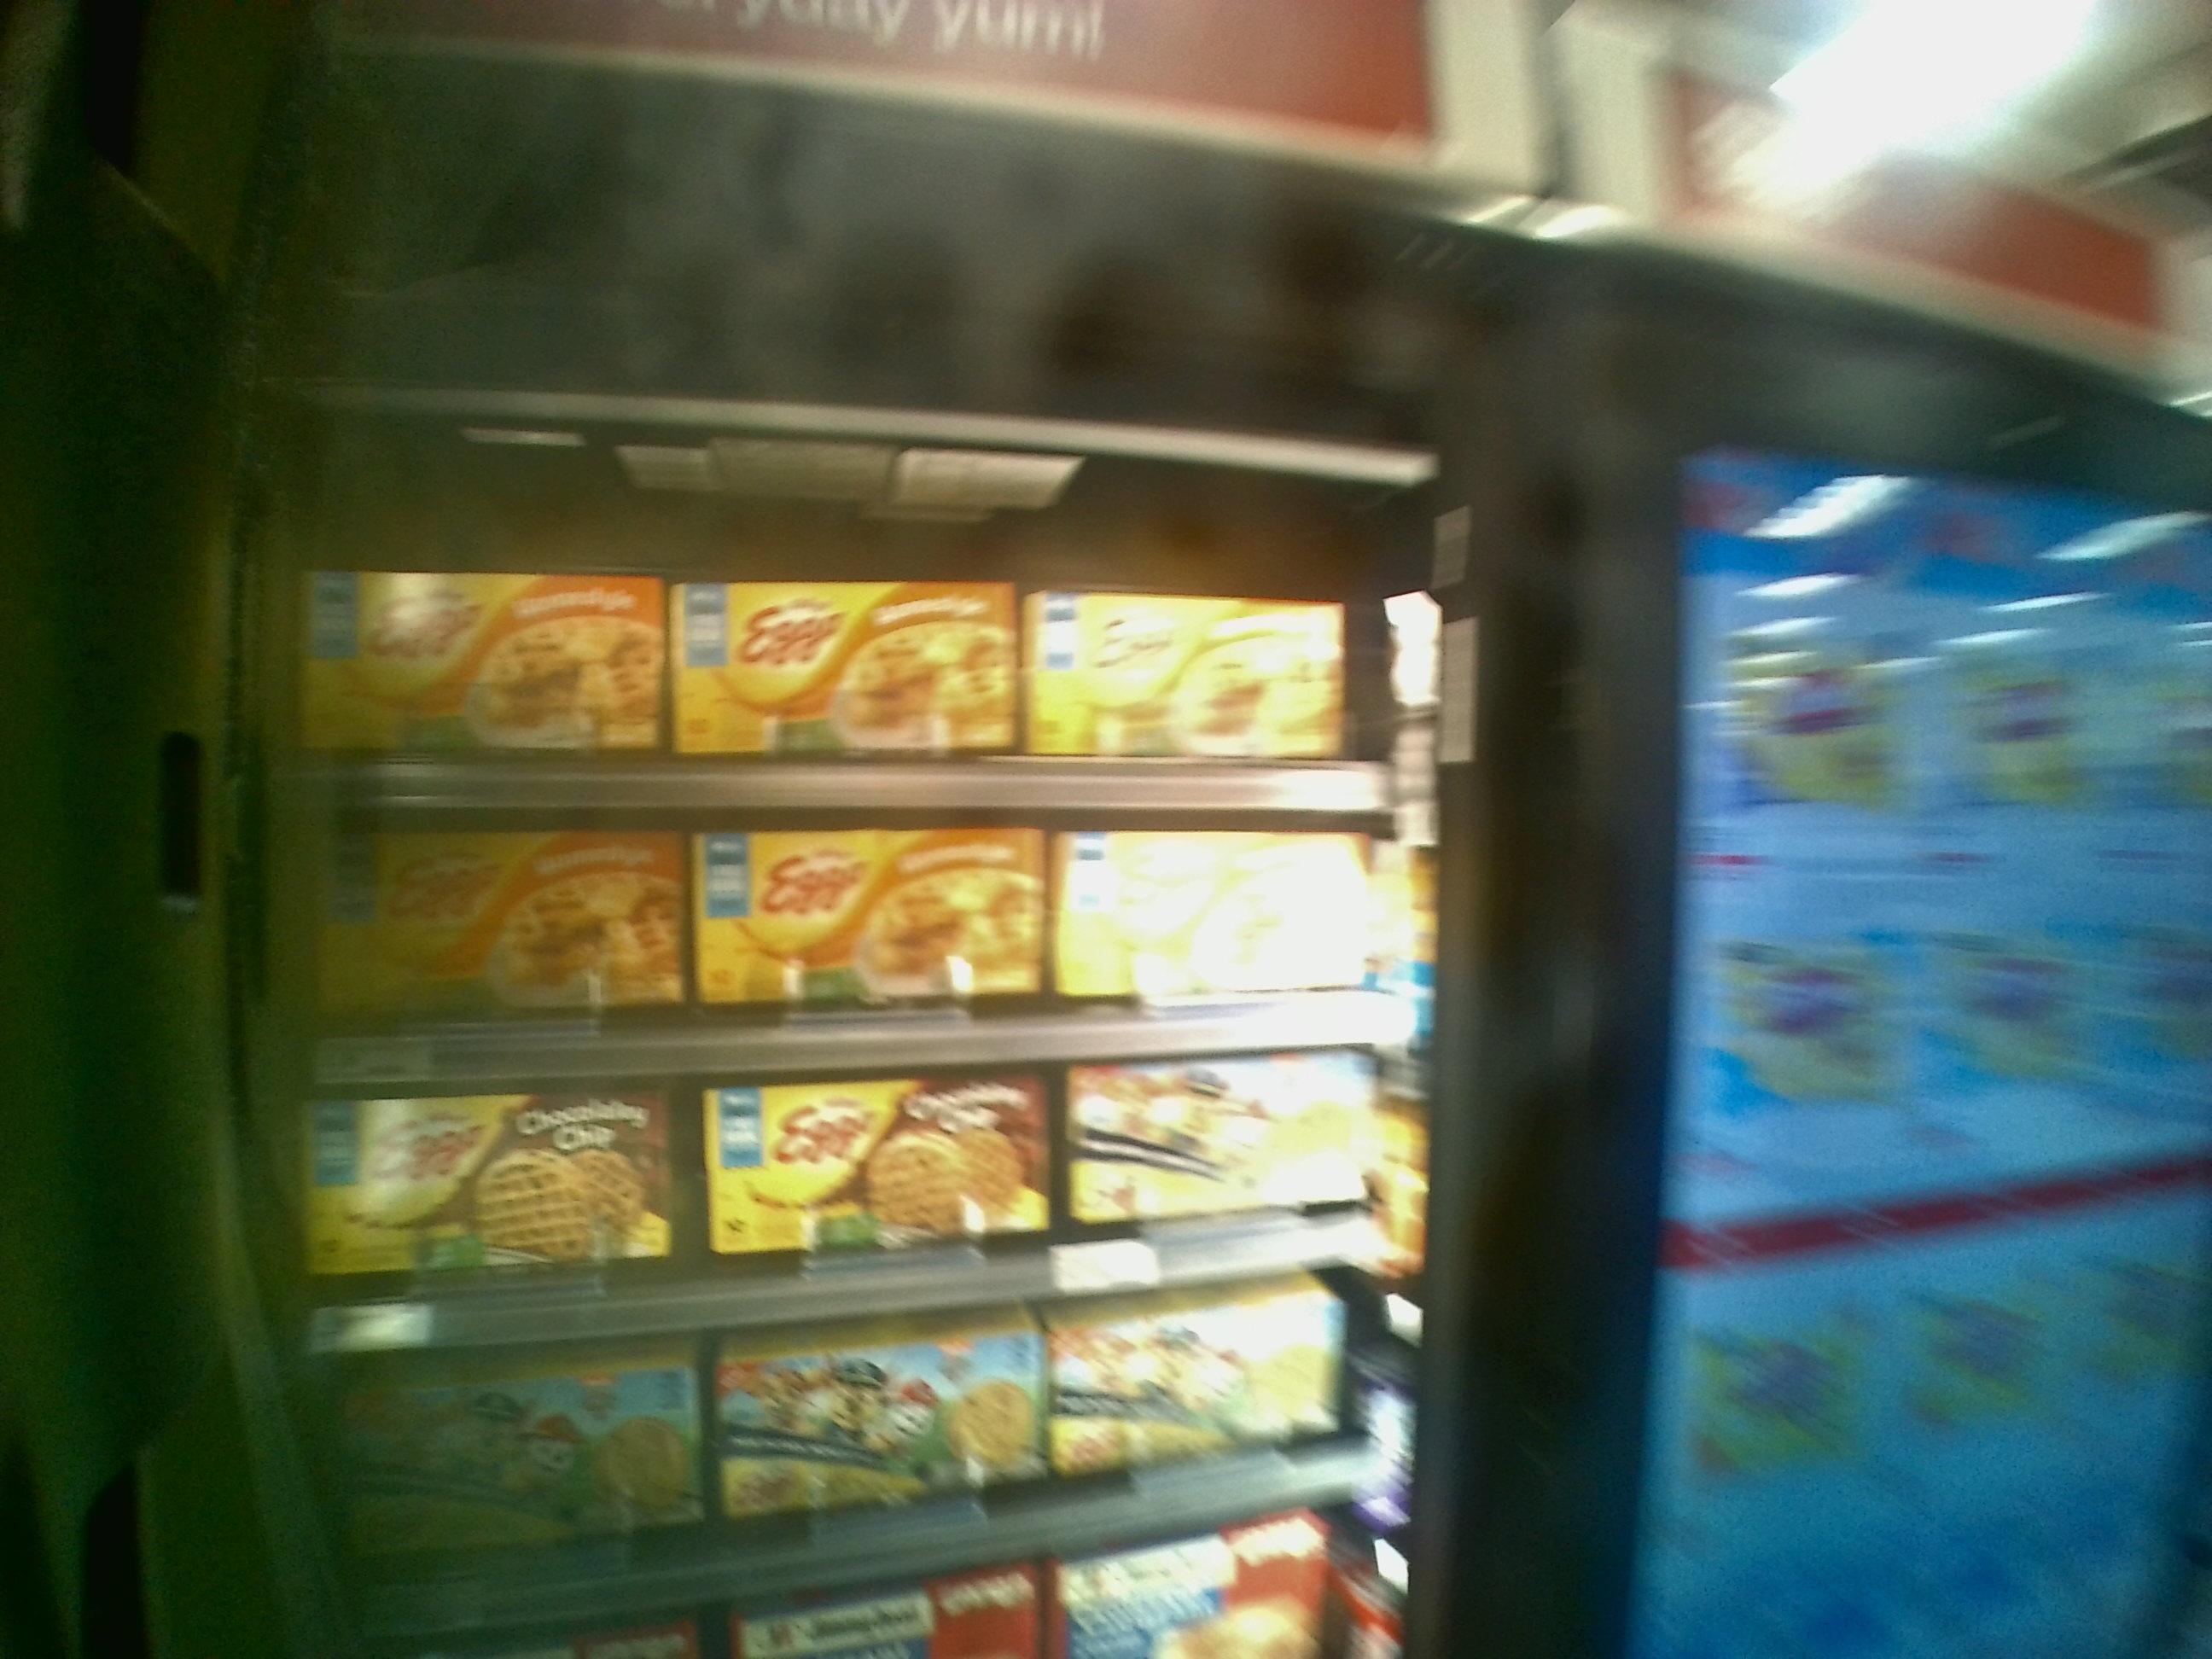shelf: (284, 490, 1458, 814), (286, 814, 1413, 1079)
